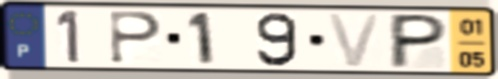1: (53, 9, 85, 66), (185, 10, 217, 67)
9: (254, 11, 300, 68)
P: (386, 12, 451, 71), (108, 9, 165, 67)
V: (324, 11, 385, 69)
